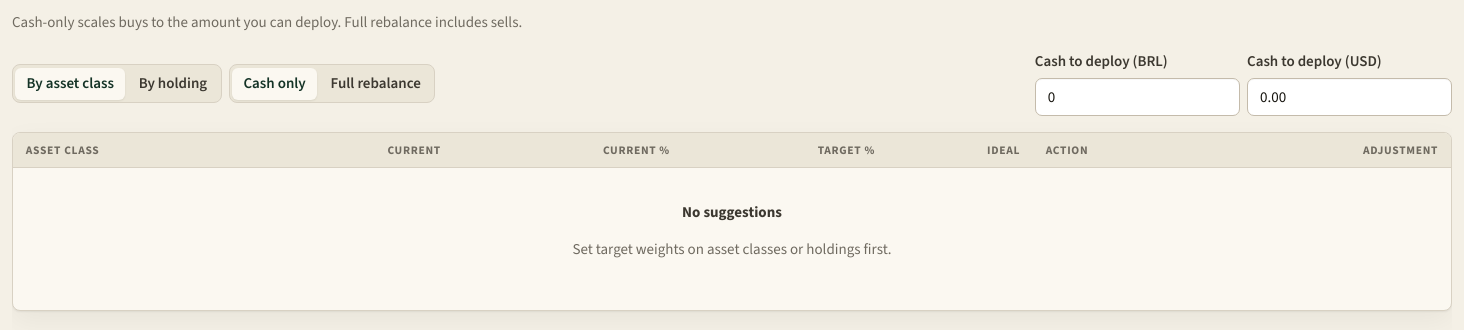
Test case: RebalancePage › formats value on blur
The width and height of the screenshot is (1464, 330).
Replace the text in the field labelled "Cash to deploy (BRL)" with "12,5" at (1137,97), box [1035,78,1240,116]
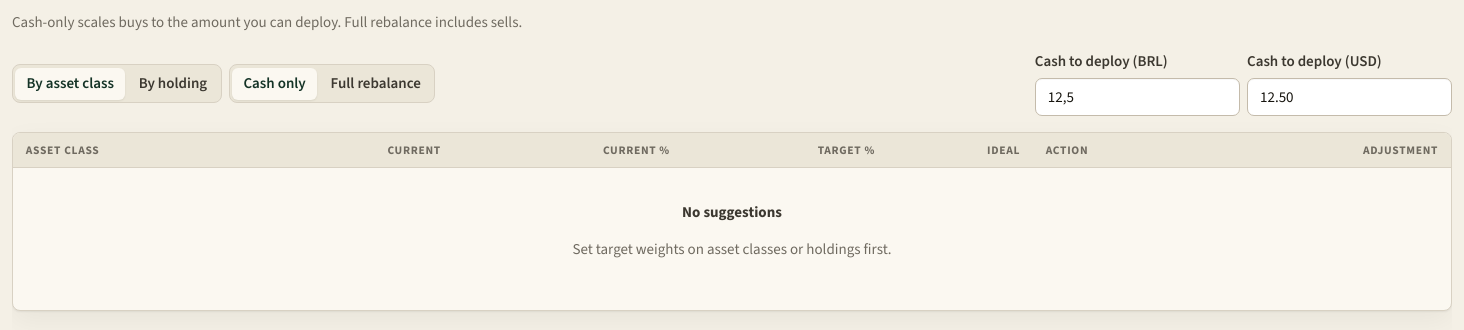
Leave the field labelled "Cash to deploy (BRL)", box [1035,78,1240,116]
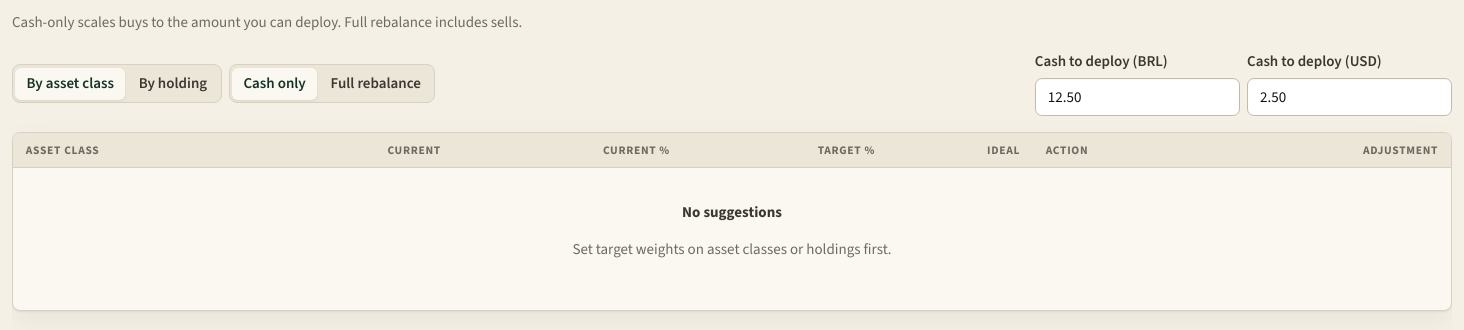
Check: the field labelled "Cash to deploy (BRL)" holds "12.50", box [1035,78,1240,116]
